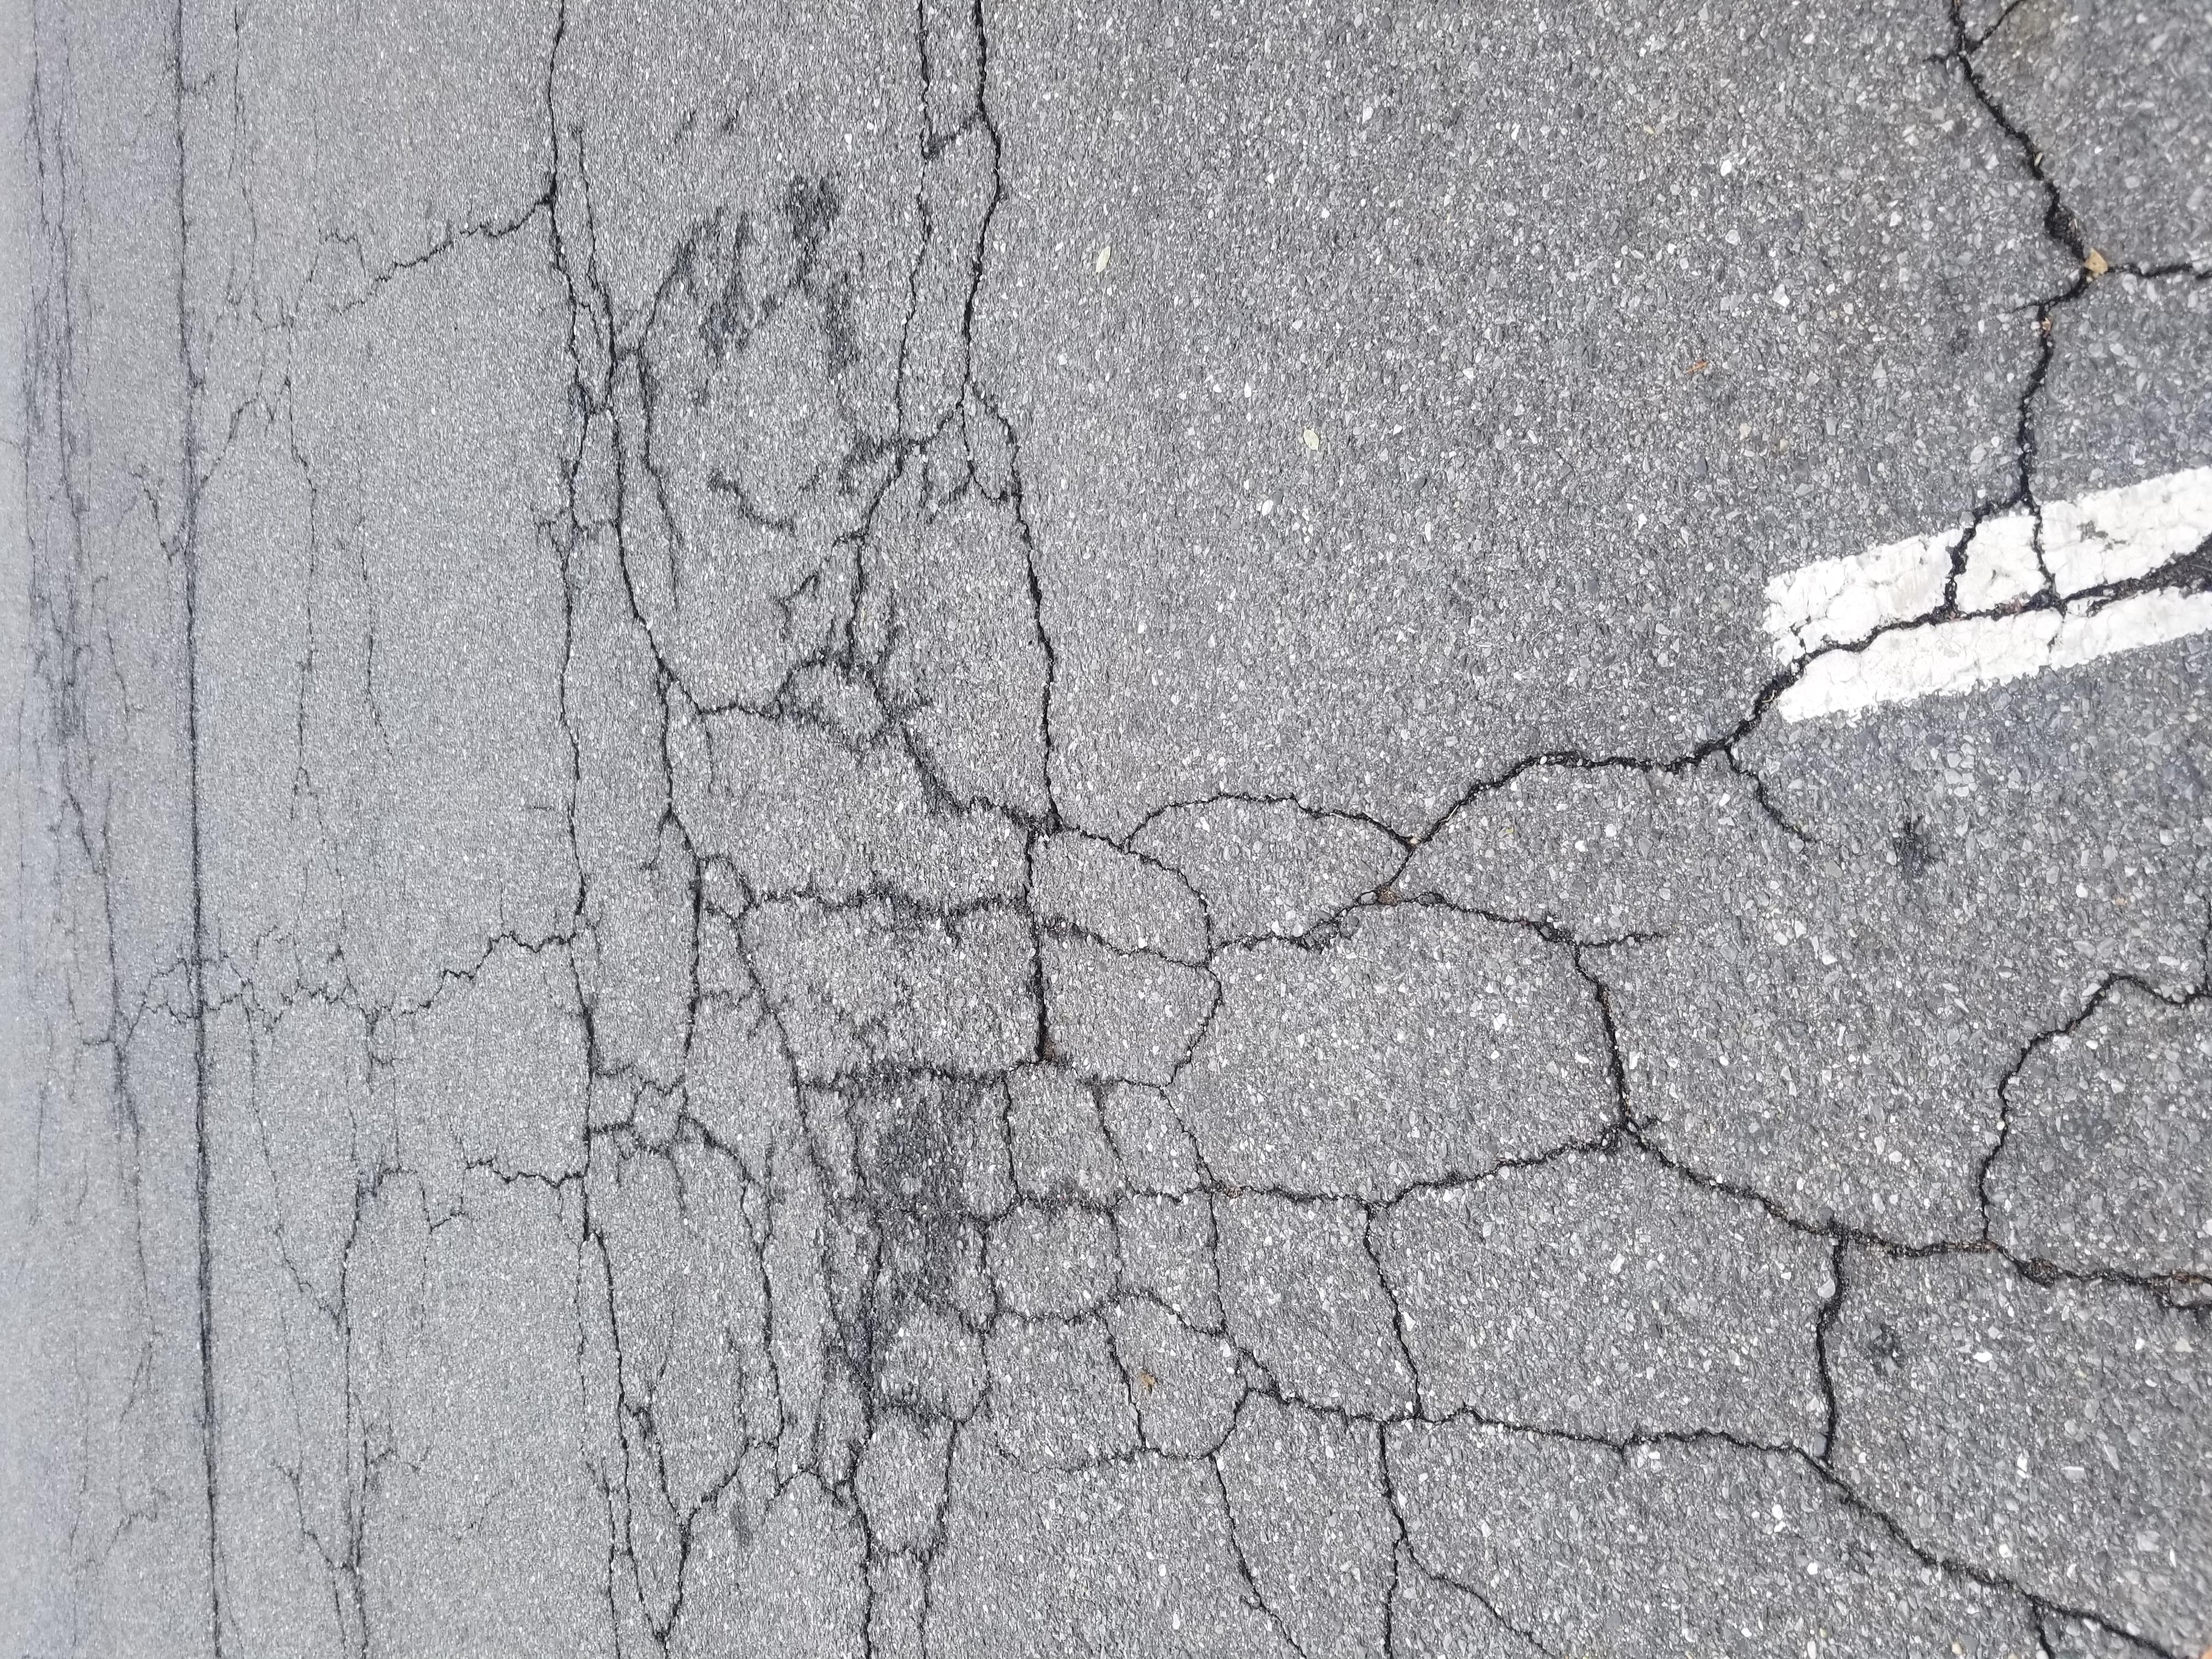alligator-crack: (7, 78, 2212, 1659)
